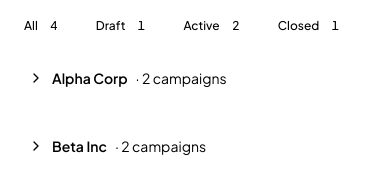
Test: CampaignsListWithFilter — grouped by company › hides a company section when all its campaigns are filtered out
// Click the CLOSED filter pill — only Beta Inc has a CLOSED campaign
Click the button with test id "campaign-filter-pill-closed": (312, 26) [266,12,357,40]
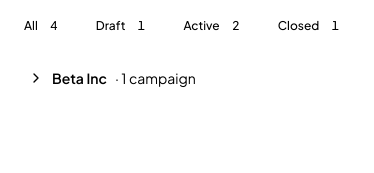
Expected: the button "Alpha Corp" is gone
